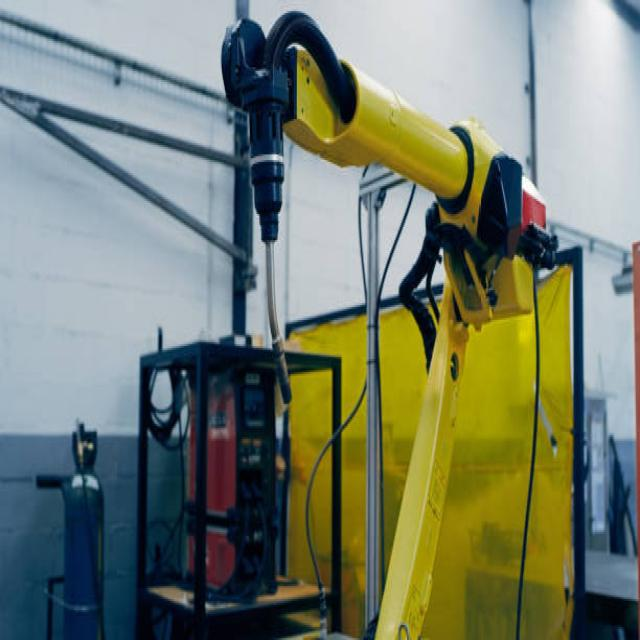Robotic-arm: (218, 4, 534, 640)
